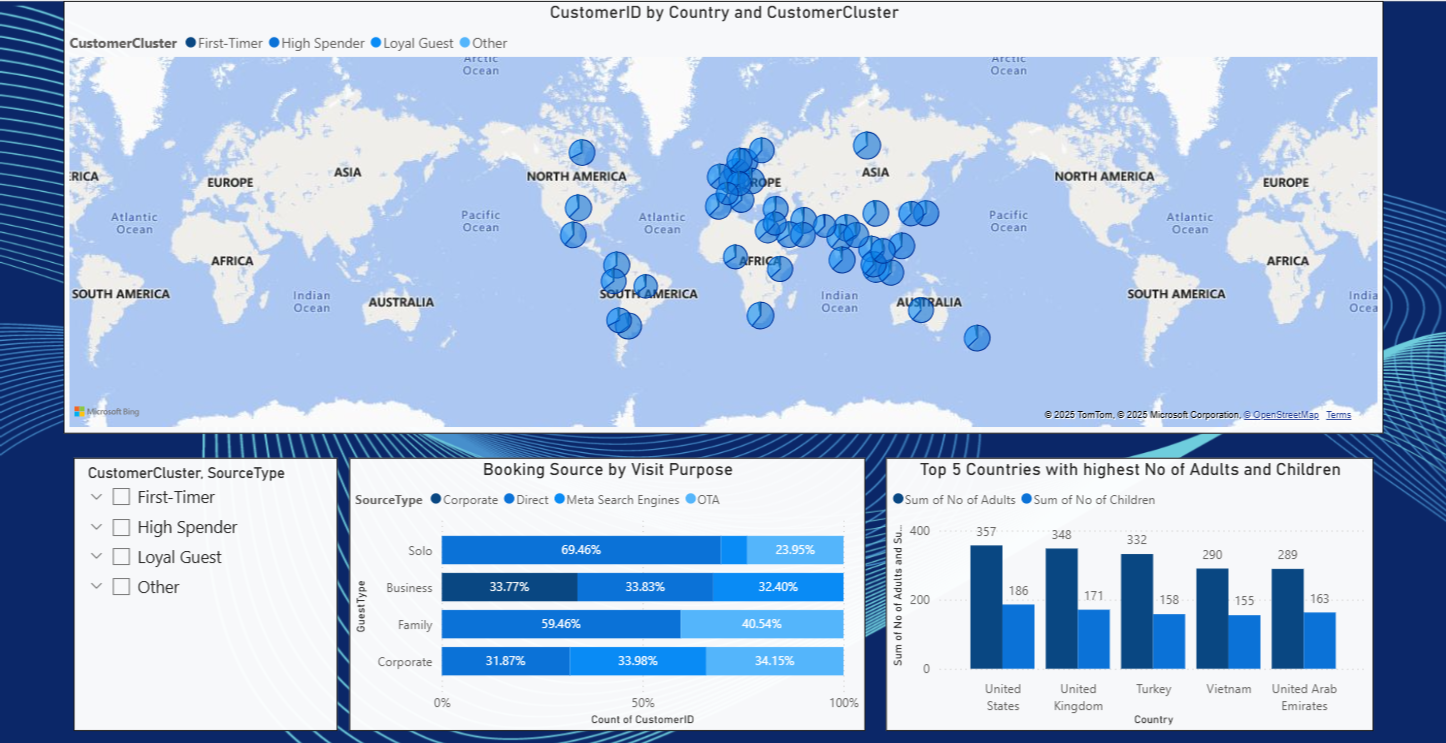

Layout of this report page (visuals, bound fields, positions):
{"tool":"powerbi","page":{"name":"DemoGraphic Analysis","canvas":[1280,720],"ordinal":6},"visuals":[{"type":"slicer","fields":{"Values":["Bookings.CustomerCluster","Bookings.SourceType"]},"box":[10,442.8,256.3,265],"z":0},{"type":"map","title":"CustomerID by Country and CustomerCluster","fields":{"Category":["Customer.Country"],"Size":["CountNonNull(Bookings.CustomerID)"],"Series":["Bookings.CustomerCluster"]},"box":[0,0,1280,419.2],"z":1000},{"type":"hundredPercentStackedBarChart","title":"Booking Source by Visit Purpose","fields":{"Series":["Bookings.SourceType"],"Category":["Bookings.GuestType"],"Y":["CountNonNull(Bookings.CustomerID)"]},"box":[277.4,442.8,500.1,265],"z":2000},{"type":"clusteredColumnChart","title":"Top 5 Countries with highest No of Adults and Children","fields":{"Category":["Customer.Country"],"Y":["Sum(Customer.No of Adults)","Sum(Customer.No of Children)"]},"box":[797.4,442.8,472.7,265],"z":3000}]}

Visuals, with their boxes in screenshot pixels (x1, y1, x2, y2):
slicer - Bookings.CustomerCluster x Bookings.SourceType: locate(82, 454, 342, 723)
"CustomerID by Country and CustomerCluster" map: locate(72, 4, 1372, 430)
"Booking Source by Visit Purpose" hundredPercentStackedBarChart: locate(353, 454, 862, 723)
"Top 5 Countries with highest No of Adults and Children" clusteredColumnChart: locate(882, 454, 1362, 723)
